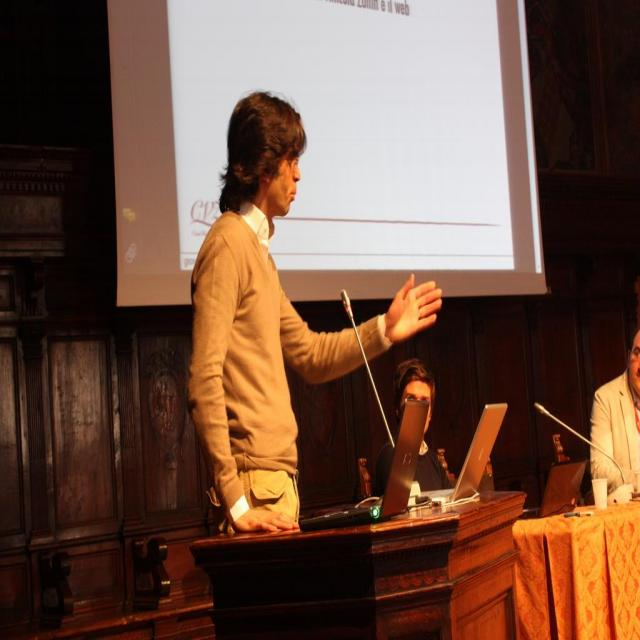table: (503, 480, 638, 636)
